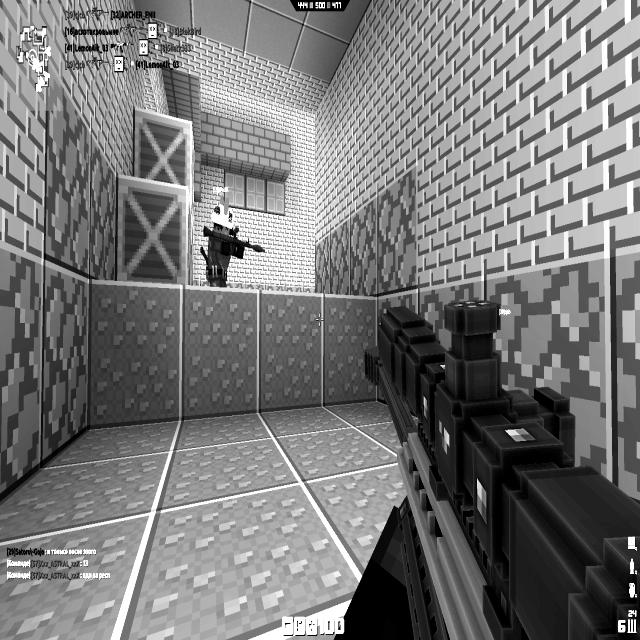Head: (212, 208, 236, 236)
Player: (200, 192, 265, 287)
